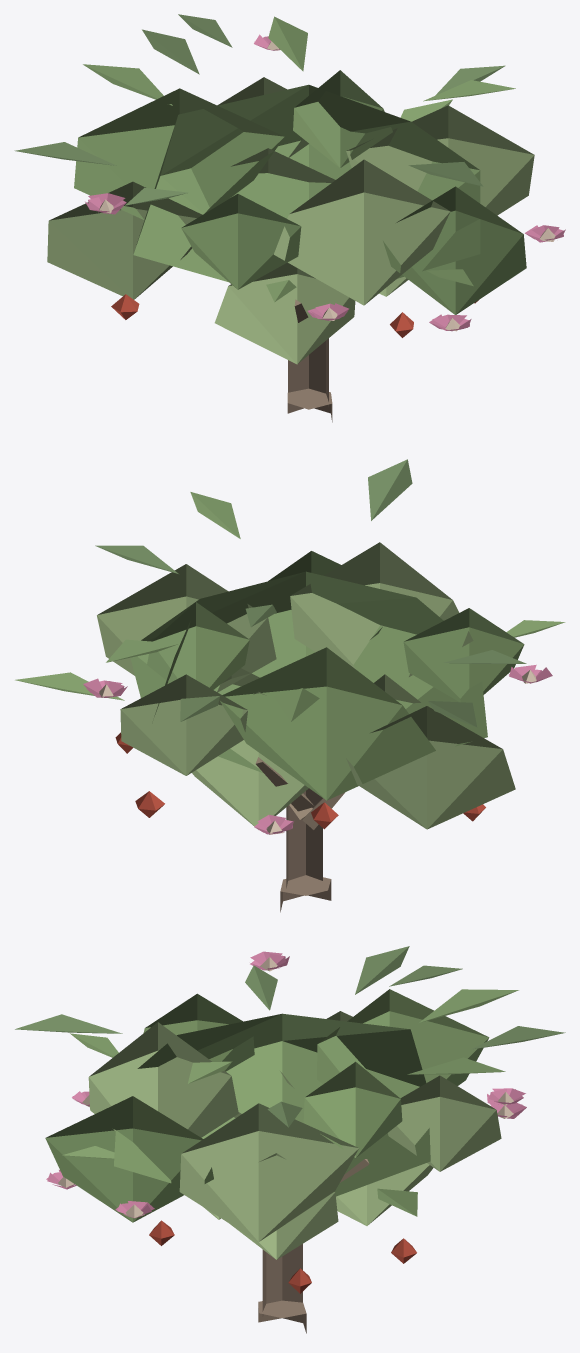
File: nong.sang__summer.glb
3 views of the same model, one above another, from view 1: azimuth 30°, elevation 25°; view 2: azimuth 150°, elevation 25°; view 3: azimuth 270°, elevation 25° (orthographic). The views are drawn at different scales.
Visible parts, largest first — view 1: nong.sang__summer; view 2: nong.sang__summer; view 3: nong.sang__summer.
Boxes of the visible parts, left/top/right/bottom form: nong.sang__summer: left=14, top=14, right=565, bottom=422; nong.sang__summer: left=15, top=459, right=565, bottom=912; nong.sang__summer: left=15, top=946, right=565, bottom=1333.
Size of the model in its own units: 8.5 by 6.33 by 9.27.
